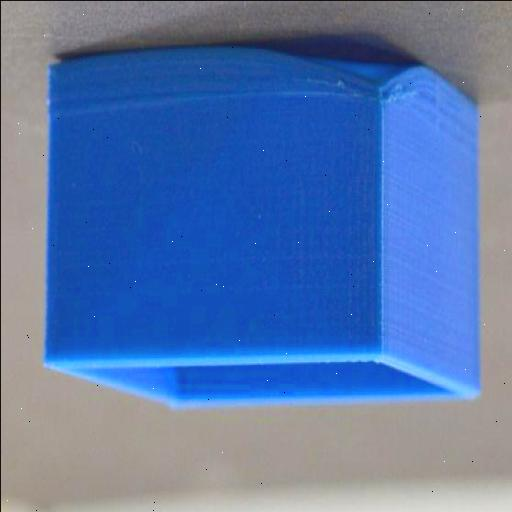cracks: (252, 40, 428, 106)
